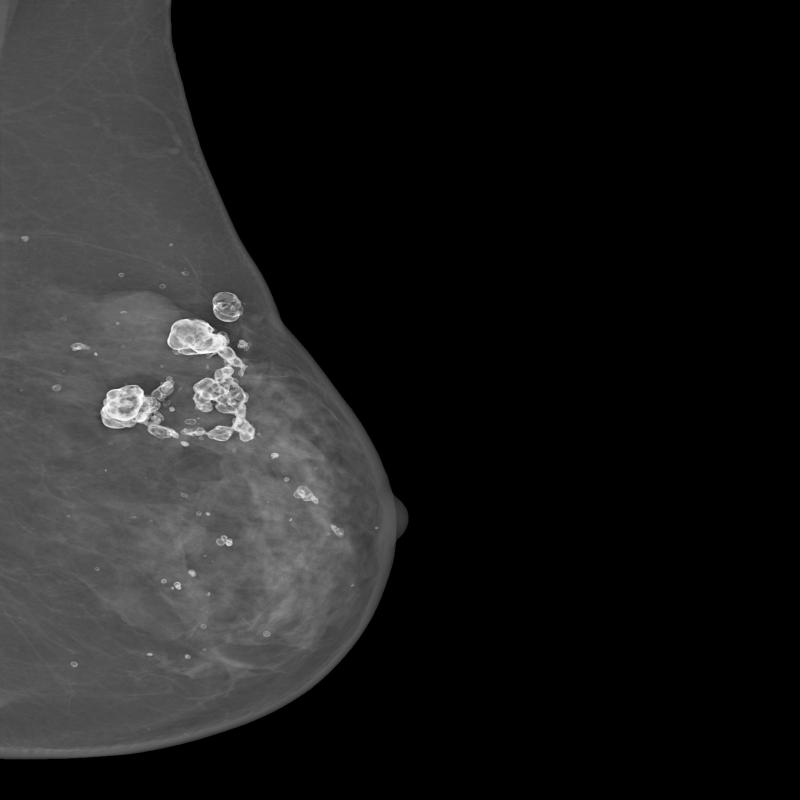No-Mass: (102, 290, 262, 446)
